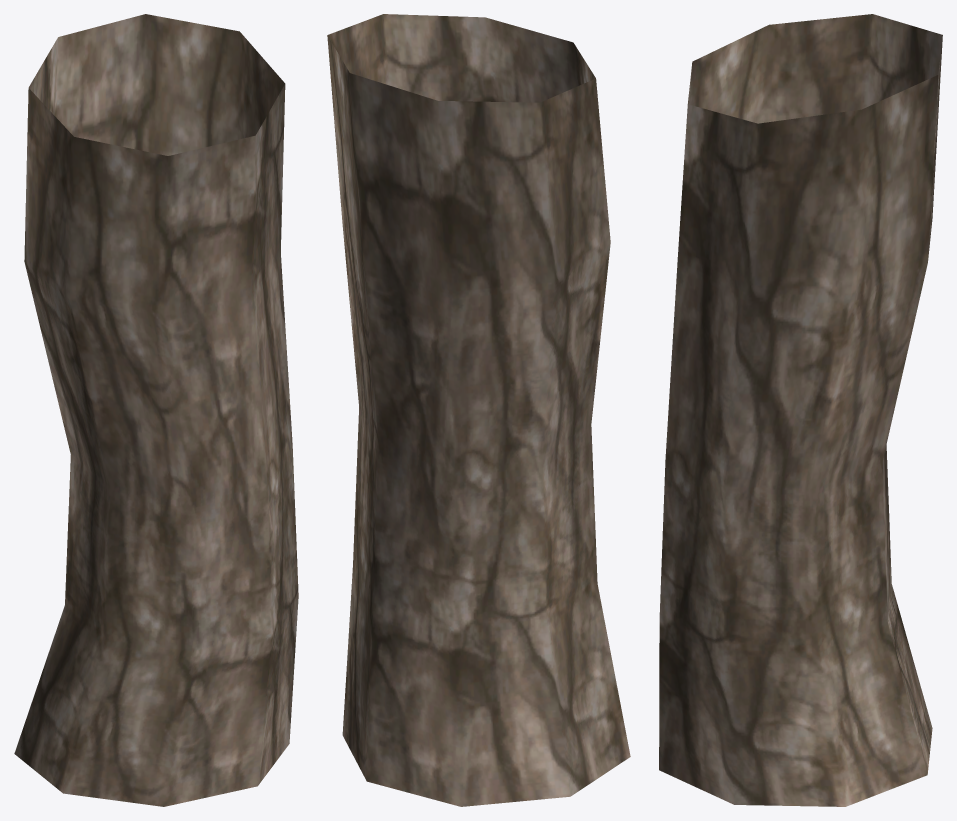
The model's file is EKH_CAVERNS_PS_CA_CYLINDER09.obj.
3 views of the same model, side by side, from view 1: azimuth 30°, elevation 25°; view 2: azimuth 150°, elevation 25°; view 3: azimuth 270°, elevation 25° (orthographic). The views are drawn at different scales.
Parts seen in each view (by area): view 1: CA_Cylinder09; view 2: CA_Cylinder09; view 3: CA_Cylinder09.
Boxes of the visible parts, x1=… form: CA_Cylinder09: x1=14, y1=14, x2=298, y2=806; CA_Cylinder09: x1=327, y1=14, x2=630, y2=806; CA_Cylinder09: x1=659, y1=14, x2=942, y2=806.
Bounding box in the file's own units: 331 × 915 × 333.
